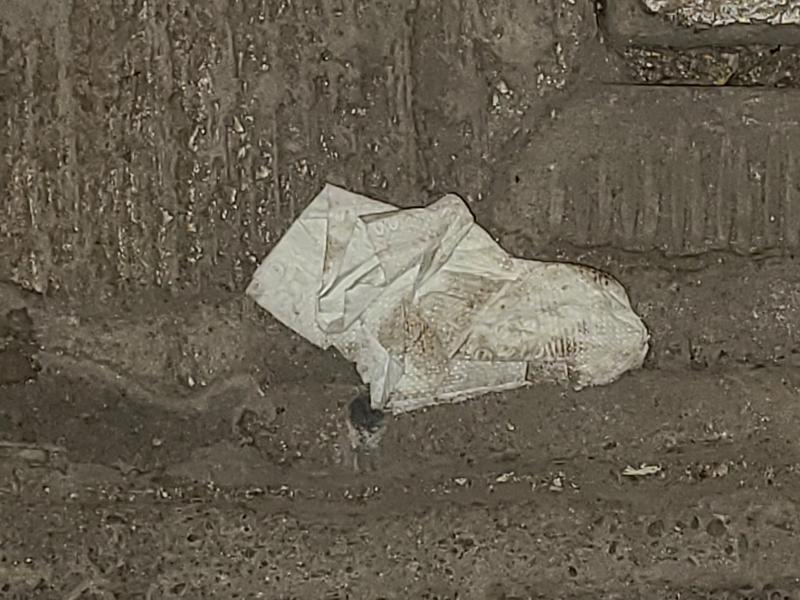papel: (245, 186, 651, 417)
